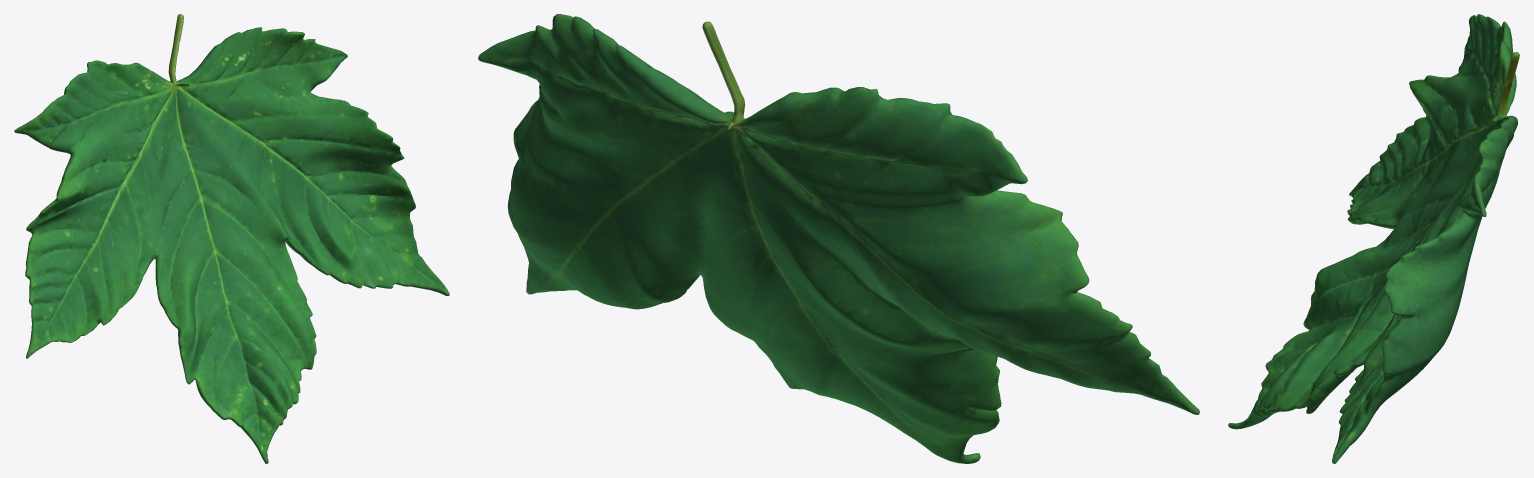
3 views of the same model, side by side, from view 1: azimuth 30°, elevation 25°; view 2: azimuth 150°, elevation 25°; view 3: azimuth 270°, elevation 25° (orthographic). The views are drawn at different scales.
Size of the model in its own units: 1.9 by 1.52 by 1.01.
Materials: 1 (1 with a texture image).
